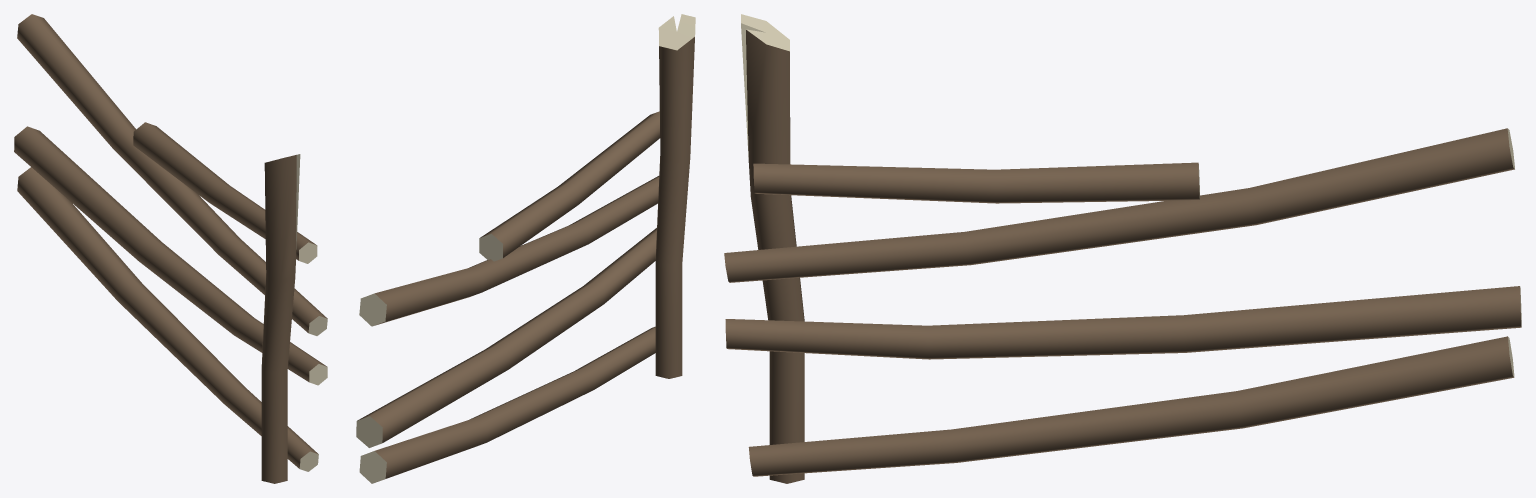
Rendered from P_Fence_02_LD.fbx.
The picture shows the model from 3 angles, left to right: view 1: azimuth 30°, elevation 25°; view 2: azimuth 150°, elevation 25°; view 3: azimuth 270°, elevation 25°; orthographic projection. The views are drawn at different scales.
Parts seen in each view (by area): view 1: P_Fence_02; view 2: P_Fence_02; view 3: P_Fence_02.
Boxes of the visible parts, x1,y1,x2,y2 form: P_Fence_02: (14,14,327,483); P_Fence_02: (356,14,695,483); P_Fence_02: (724,14,1521,483).
Bounding box in the file's own units: 22.29 × 138 × 219.
1 material, 1 textured.
